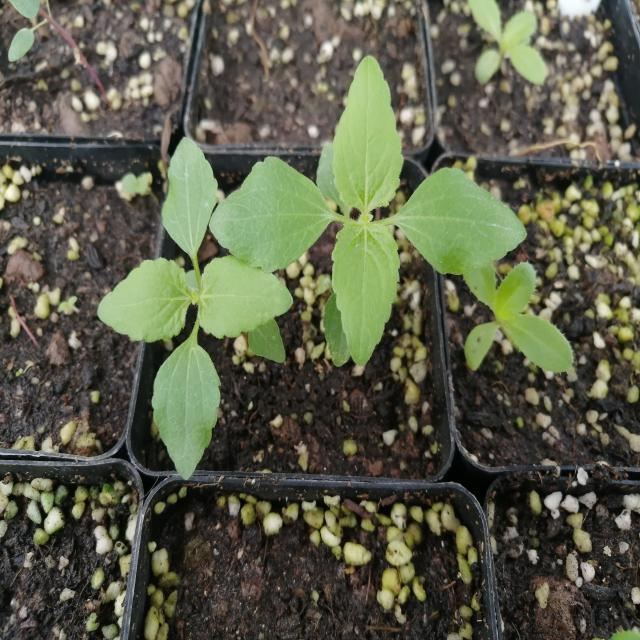billygoat_weed: (232, 57, 498, 372), (112, 134, 284, 466)
